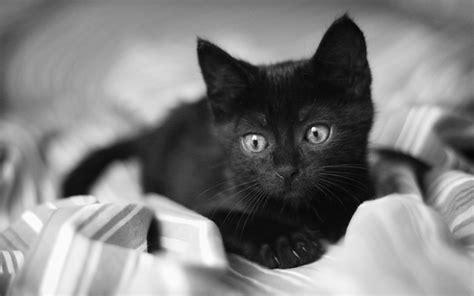cat: (60, 14, 374, 269)
